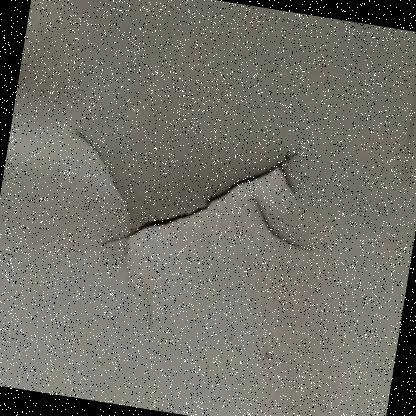Crack: (32, 74, 364, 383)
